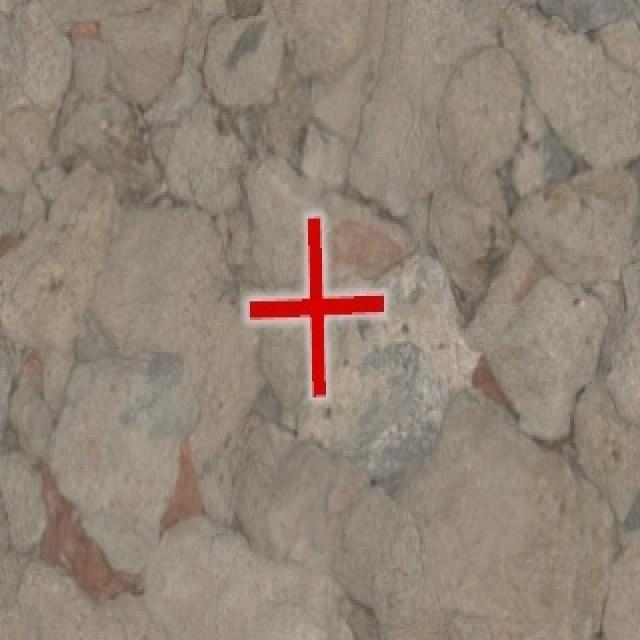x_marker: (247, 215, 383, 396)
